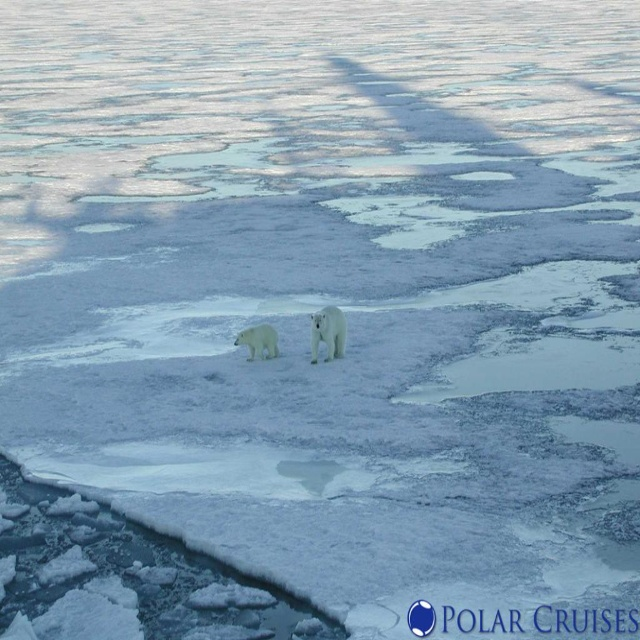Polar bear: (307, 302, 349, 363), (235, 320, 280, 366)
